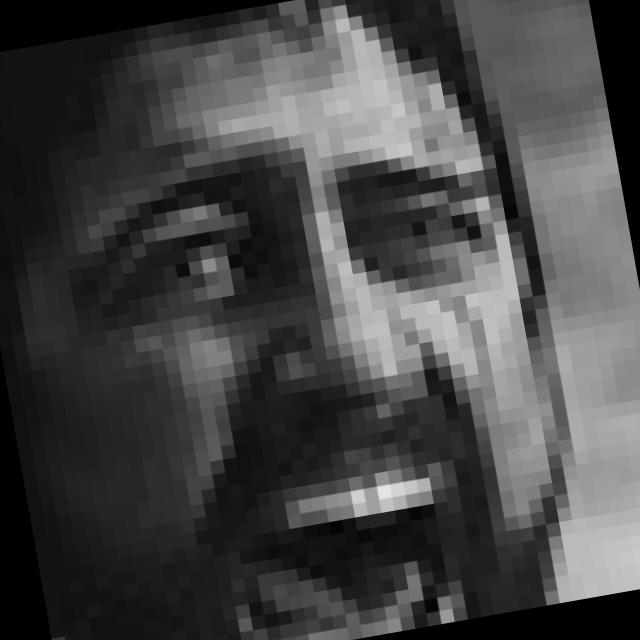angry: (60, 103, 578, 640)
